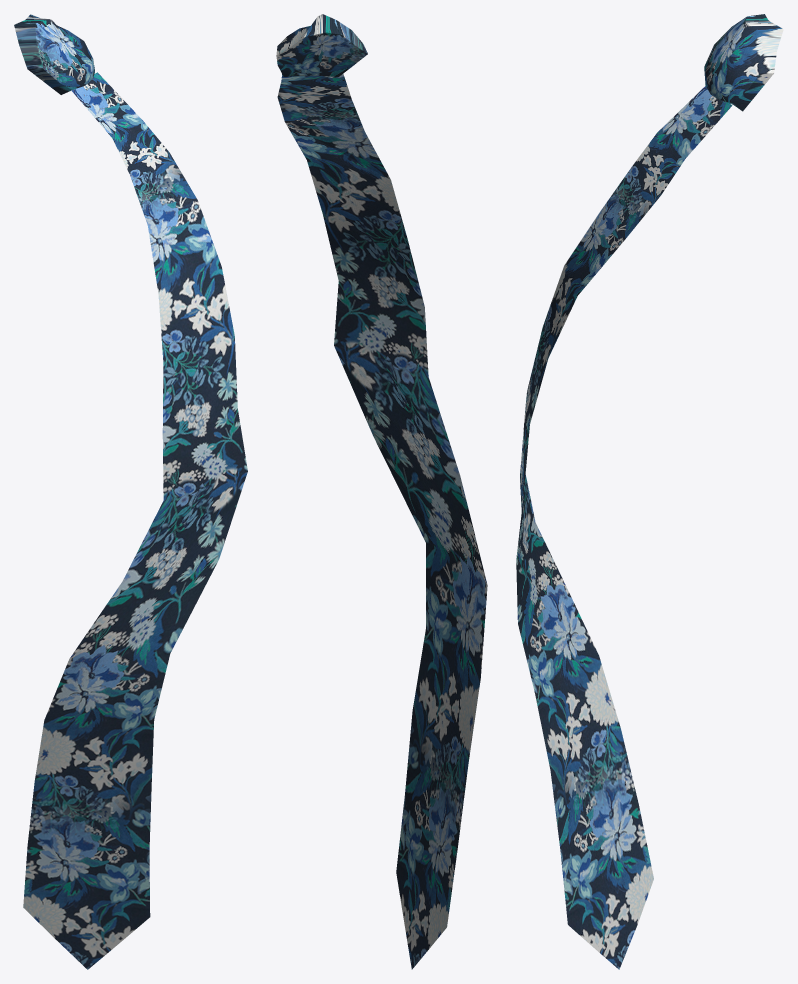
The model's file is Pose-12_SuitTie-2.fbx.
3 renders of one model, left to right at view 1: azimuth 30°, elevation 25°; view 2: azimuth 150°, elevation 25°; view 3: azimuth 270°, elevation 25°, orthographic. The views are drawn at different scales.
Parts seen in each view (by area): view 1: Pose-12_SuitTie-2; view 2: Pose-12_SuitTie-2; view 3: Pose-12_SuitTie-2.
Boxes of the visible parts, x1,y1,x2,y2 form: Pose-12_SuitTie-2: (14,14,247,969); Pose-12_SuitTie-2: (276,14,487,969); Pose-12_SuitTie-2: (516,14,783,969).
Size of the model in its own units: 10.51 by 53.89 by 13.62.
